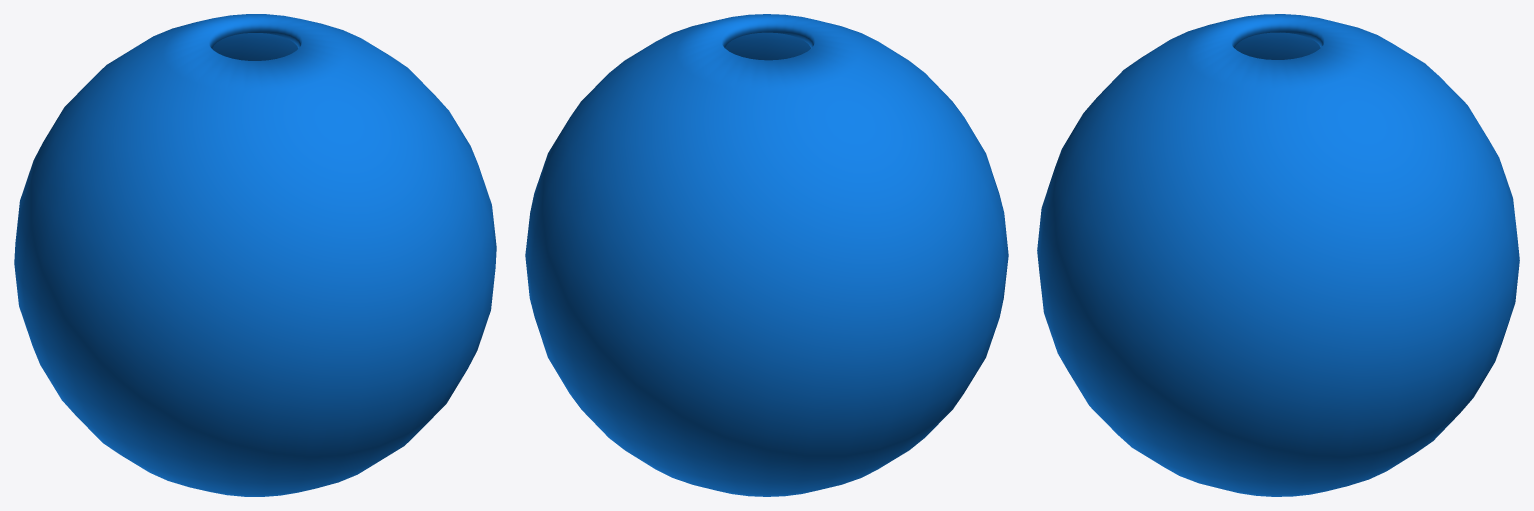
Rendered from skybox3.fbx.
The picture shows the model from 3 angles, left to right: view 1: azimuth 30°, elevation 25°; view 2: azimuth 150°, elevation 25°; view 3: azimuth 270°, elevation 25°; orthographic projection.
Visible parts, largest first — view 1: Sphere; view 2: Sphere; view 3: Sphere.
Part boxes in pixels (x1=…): Sphere: x1=14, y1=14, x2=496, y2=496; Sphere: x1=525, y1=14, x2=1008, y2=496; Sphere: x1=1037, y1=14, x2=1519, y2=496.
Size of the model in its own units: 46180 by 45829 by 46179.
